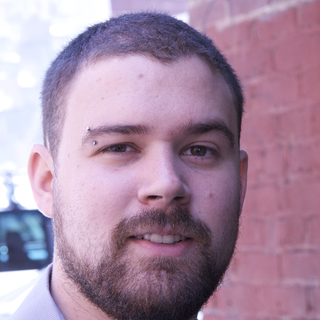eye: (93, 138, 144, 162), (177, 139, 225, 163)
